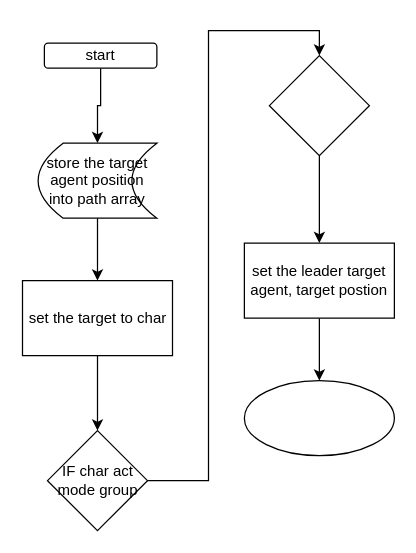
This 416x553 diagram has some shape labels left out. Here are the shapes that lost their labels. From the top down, the centre of each, then its label:
At point (318, 105): "FOR all char".
At point (318, 417): "end".
